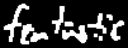fantastic: (0, 0, 128, 48)
